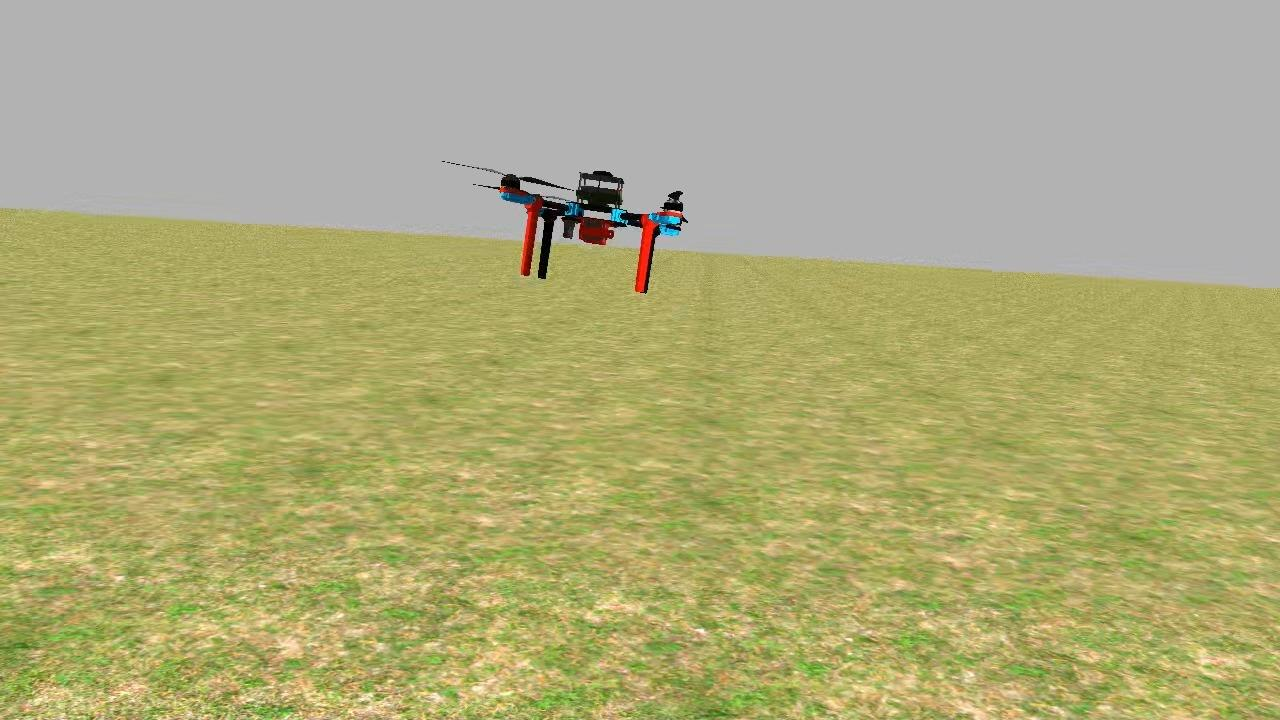UAV: (484, 155, 692, 301)
